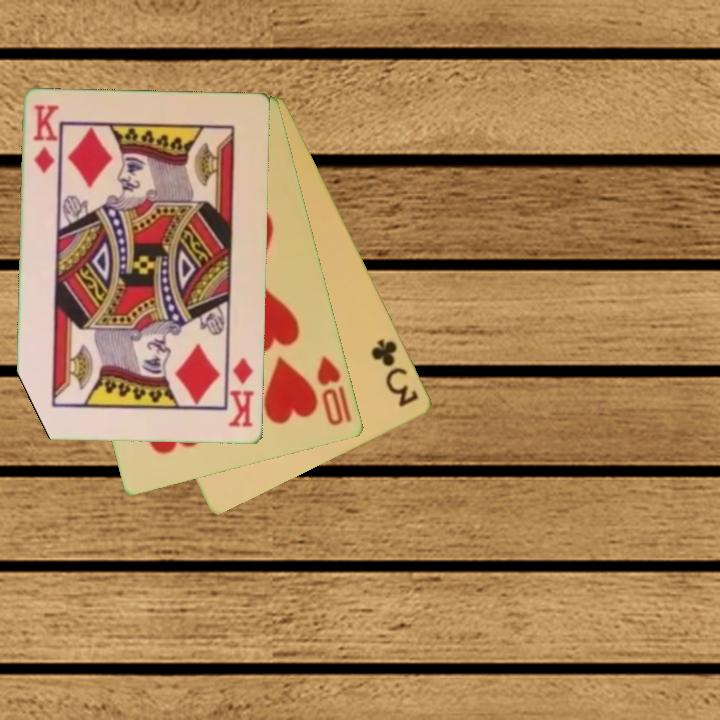10h: (314, 352, 347, 429)
3c: (368, 335, 422, 410)
Kd: (225, 350, 257, 430), (30, 101, 61, 177)
